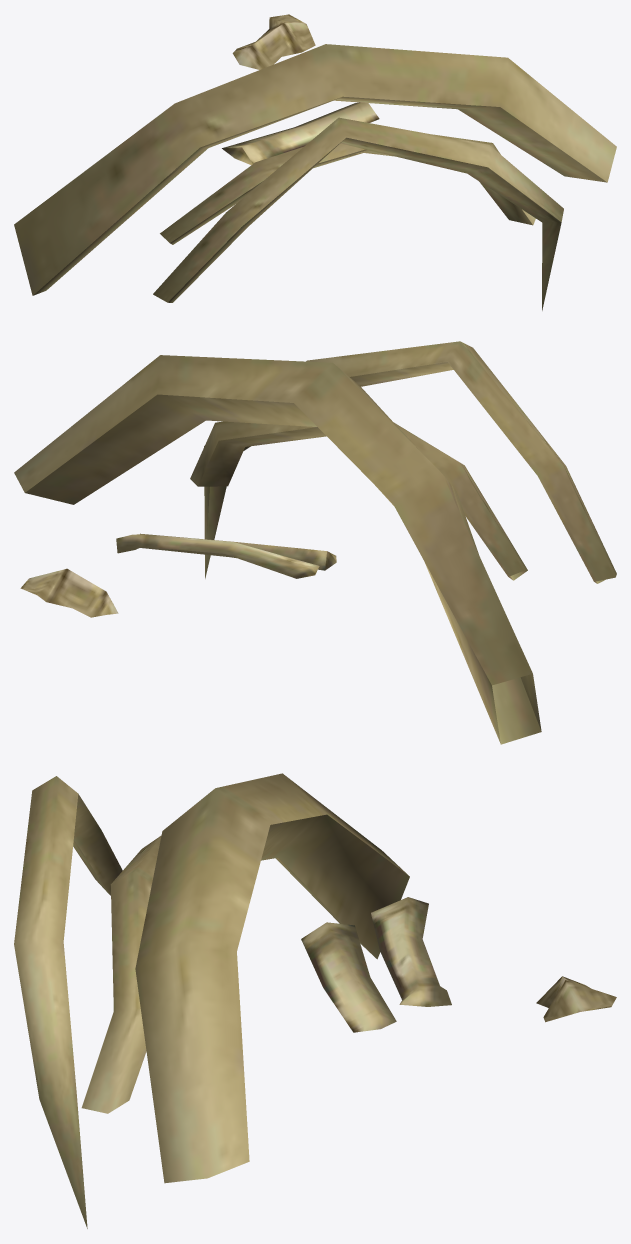
File: h5_gutou_b.FBX
3 views of the same model, one above another, from view 1: azimuth 30°, elevation 25°; view 2: azimuth 150°, elevation 25°; view 3: azimuth 270°, elevation 25° (orthographic). The views are drawn at different scales.
Visible parts, largest first — view 1: h5_gutou_b; view 2: h5_gutou_b; view 3: h5_gutou_b.
Boxes of the visible parts, x1,y1,x2,y2 form: h5_gutou_b: (14, 14, 616, 310); h5_gutou_b: (14, 341, 616, 744); h5_gutou_b: (14, 773, 616, 1228).
Size of the model in its own units: 7.8 by 3.79 by 6.09.
